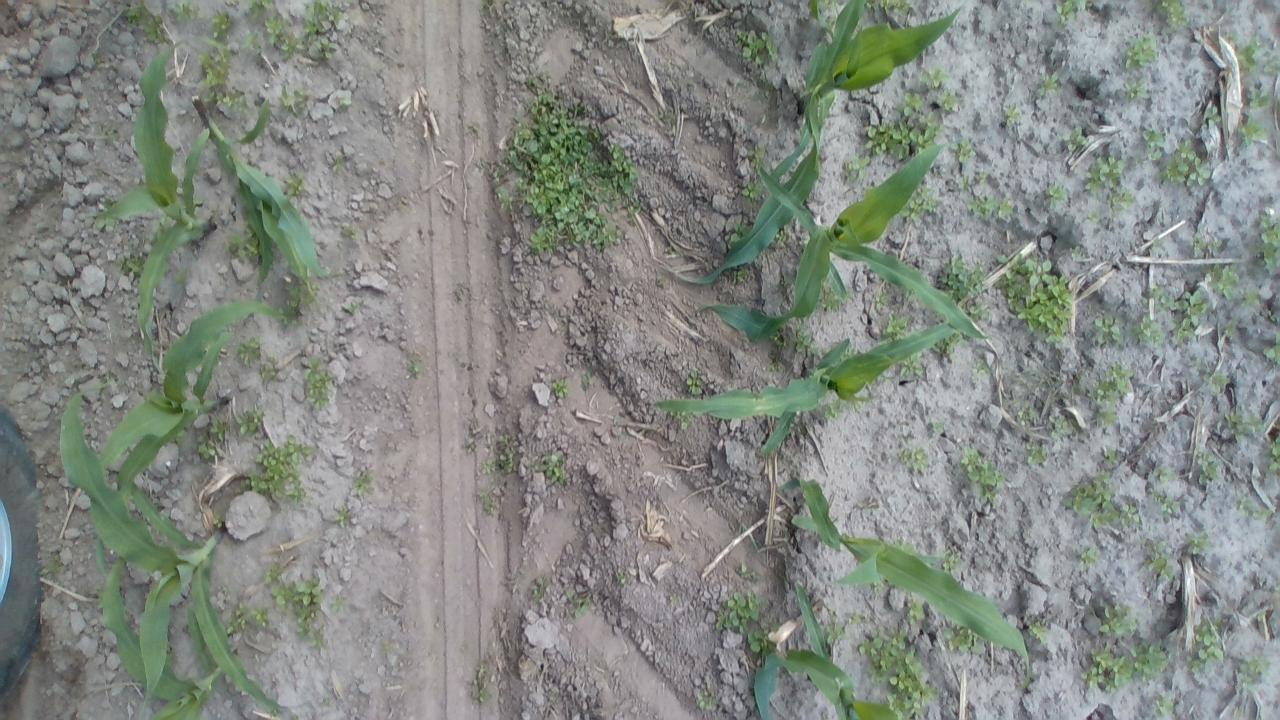Maize: (687, 0, 968, 292), (54, 383, 290, 716), (768, 476, 1035, 704), (692, 152, 994, 342), (652, 319, 981, 457), (100, 301, 284, 516), (106, 31, 216, 367), (185, 91, 338, 294), (85, 558, 250, 720), (756, 585, 902, 719)
Weeds: (496, 74, 648, 262), (998, 256, 1072, 342), (862, 634, 932, 708), (1084, 640, 1170, 692), (243, 436, 310, 501), (274, 574, 330, 648), (1064, 474, 1117, 522), (959, 446, 1002, 505), (716, 590, 765, 630), (1162, 143, 1208, 185), (1173, 290, 1208, 344), (194, 417, 234, 464), (468, 654, 500, 712), (942, 255, 984, 297), (300, 0, 339, 45), (123, 3, 165, 44), (1252, 216, 1280, 276), (1192, 616, 1224, 668), (1012, 394, 1052, 434), (1093, 364, 1135, 402), (1120, 74, 1162, 110), (738, 29, 775, 66), (1122, 32, 1157, 71), (262, 6, 293, 50), (498, 558, 532, 598), (304, 362, 332, 408), (1087, 156, 1124, 190), (1102, 603, 1140, 636), (198, 48, 230, 86), (729, 558, 772, 586), (478, 474, 504, 518), (1224, 410, 1264, 438), (1001, 96, 1031, 133), (1145, 691, 1181, 720), (88, 120, 120, 152), (1042, 178, 1070, 214), (464, 412, 486, 456), (1208, 264, 1240, 294), (38, 547, 66, 581), (1044, 407, 1074, 438), (1144, 546, 1173, 578), (1145, 457, 1177, 486), (867, 0, 915, 19), (1092, 314, 1122, 344), (944, 627, 980, 652), (114, 246, 144, 276), (230, 229, 261, 258), (1240, 654, 1268, 686), (746, 628, 778, 656), (1236, 283, 1265, 313), (1133, 315, 1160, 347), (1054, 0, 1086, 27), (498, 436, 520, 475), (1257, 329, 1280, 366), (236, 406, 264, 436), (948, 170, 986, 192), (906, 195, 940, 219), (759, 350, 788, 378), (1158, 0, 1188, 27), (965, 193, 996, 219), (290, 279, 316, 310), (339, 294, 364, 326), (884, 123, 911, 152), (692, 681, 718, 711), (226, 603, 250, 635), (1236, 38, 1260, 70), (528, 570, 552, 602), (942, 546, 969, 574), (1154, 489, 1183, 515), (334, 214, 359, 244), (749, 75, 774, 105), (1141, 128, 1164, 160), (970, 356, 996, 384), (172, 0, 205, 22), (898, 448, 928, 472), (542, 452, 566, 482), (460, 118, 490, 142), (933, 334, 963, 358), (684, 364, 705, 398), (1266, 428, 1280, 479), (1090, 406, 1122, 428), (1115, 500, 1142, 526), (449, 276, 474, 304), (868, 289, 893, 316), (1240, 120, 1268, 144), (865, 126, 889, 154), (468, 150, 492, 178), (328, 144, 350, 174), (1150, 284, 1175, 310), (233, 338, 260, 362), (848, 608, 871, 636), (882, 314, 908, 338), (914, 118, 940, 142), (276, 304, 302, 328), (95, 202, 118, 229), (280, 88, 308, 110), (567, 590, 590, 616), (1236, 498, 1268, 516), (240, 26, 264, 50), (900, 354, 924, 378), (1109, 189, 1135, 211), (402, 357, 424, 383), (244, 0, 279, 16), (582, 364, 600, 395), (922, 66, 947, 88), (315, 38, 340, 60), (87, 45, 109, 70), (1200, 455, 1221, 481), (822, 287, 842, 314), (741, 180, 765, 202), (283, 172, 305, 196), (996, 197, 1017, 222), (844, 154, 867, 176), (1192, 234, 1220, 252), (724, 266, 748, 287), (260, 357, 280, 382), (334, 499, 351, 528), (550, 373, 568, 400), (1065, 128, 1087, 150), (952, 141, 975, 162), (826, 619, 846, 643), (1038, 72, 1058, 96), (797, 330, 816, 355), (1262, 46, 1280, 72), (1026, 444, 1048, 465), (211, 12, 232, 34), (1186, 532, 1208, 553), (658, 105, 679, 127), (724, 222, 746, 243), (1103, 439, 1123, 462), (1248, 90, 1272, 109), (1077, 546, 1097, 568), (904, 92, 924, 114), (330, 591, 350, 613), (221, 92, 245, 110), (252, 604, 270, 628), (769, 328, 790, 348), (1207, 371, 1229, 390), (748, 144, 768, 164), (1028, 620, 1046, 642), (968, 301, 988, 320), (1083, 207, 1105, 224), (940, 91, 959, 110), (265, 565, 284, 584), (906, 600, 924, 620), (352, 474, 370, 494), (1224, 312, 1240, 334), (664, 592, 682, 611), (929, 419, 949, 436), (1204, 105, 1221, 124), (478, 458, 498, 474), (612, 568, 632, 584), (774, 276, 794, 292), (1067, 242, 1089, 256), (772, 230, 791, 246), (676, 413, 692, 431), (211, 512, 227, 530), (826, 403, 843, 418), (818, 0, 839, 12), (336, 94, 352, 109), (215, 584, 232, 598)
